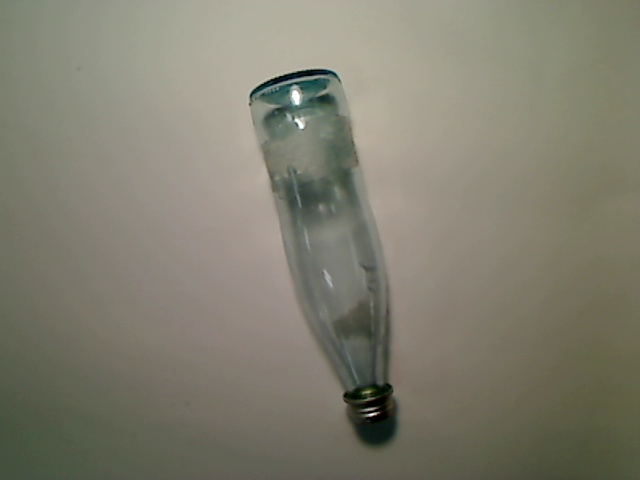bottle: (248, 68, 398, 425)
